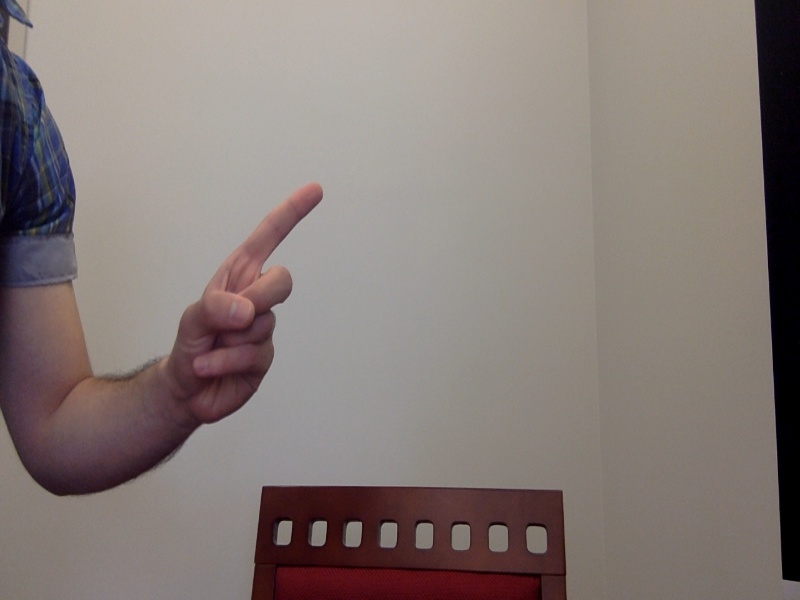1-hand: (174, 185, 347, 430)
